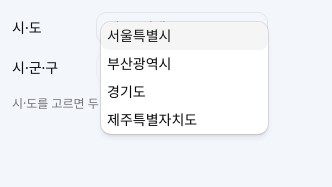
linked: the second list follows the first and empties when it changes
Earlier steps of the test are not shown.
Click the option "서울특별시": click(184, 36) [101,22,268,50]
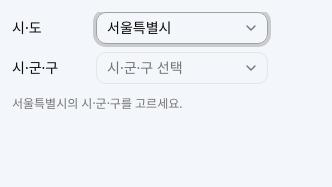
expect the dropdown labelled "시·군·구" is enabled: met
Click the dropdown labelled "시·군·구": click(182, 68) [96,52,268,84]
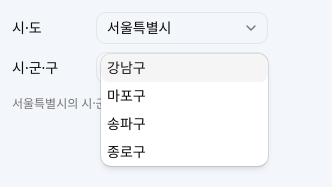
Click the option "마포구": click(126, 96) [107,86,146,105]
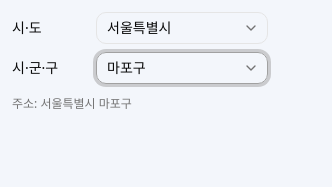
expect the message reads "주소: 서울특별시 마포구": met, box [12,95,132,112]
Click the dropdown named "시·도": click(182, 28) [96,12,268,44]
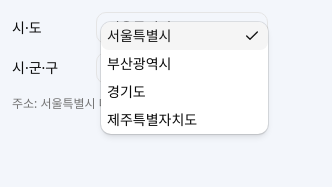
Click the option "부산광역시": click(139, 64) [107,54,171,73]
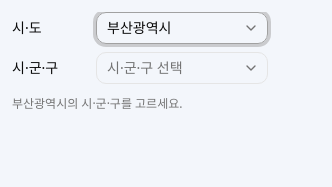
expect the dropdown labelled "시·군·구" reads "시·군·구 선택": met
expect the message reads "부산광역시의 시·군·구를 고르세요.": met, box [12,95,182,112]
Click the dropdown labelled "시·군·구": click(182, 68) [96,52,268,84]
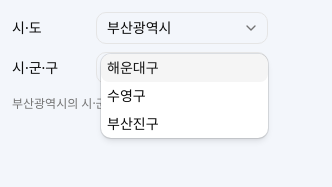
expect the dropdown labelled "마포구" is not shown: met
expect the option "해운대구" is shown: met, box [101,54,268,82]
